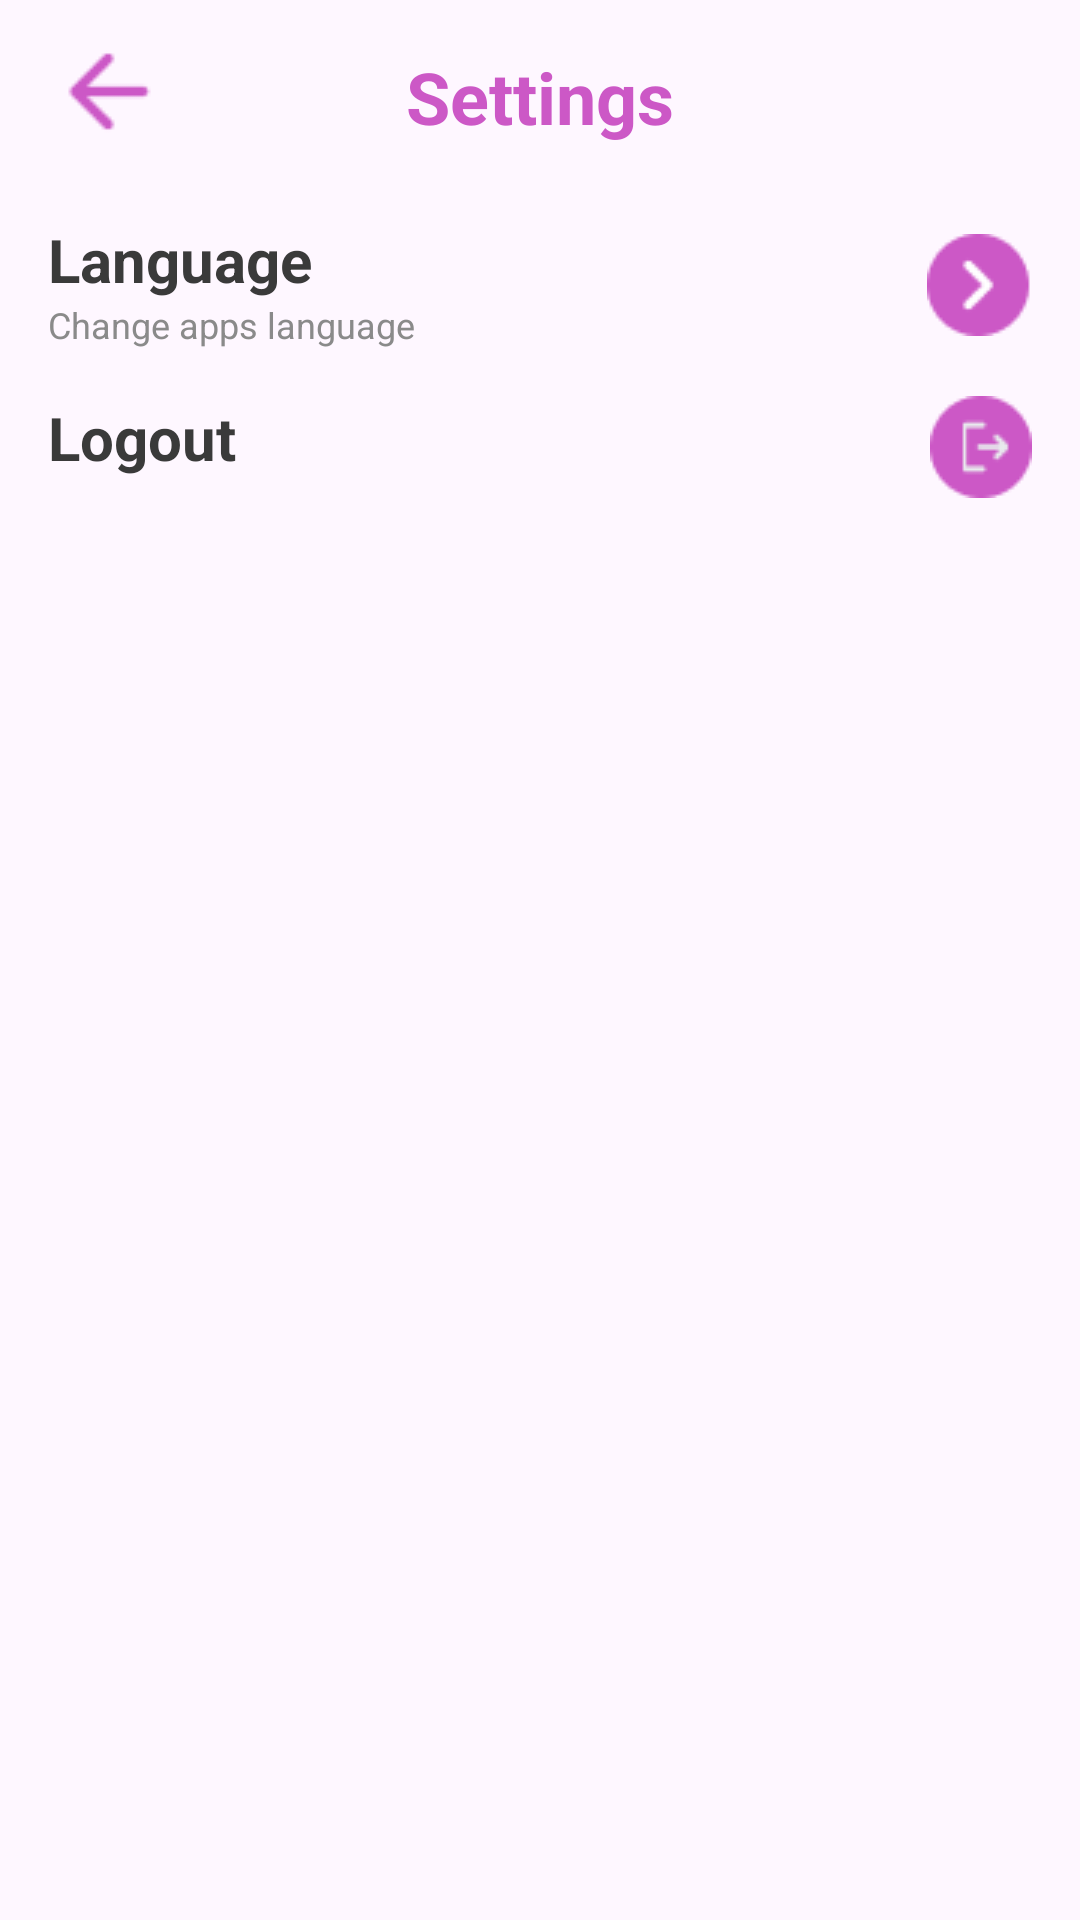

Point at icon controls on the screen. Image size 1080*1920, points as [x,y].
Button back: [109,91]
